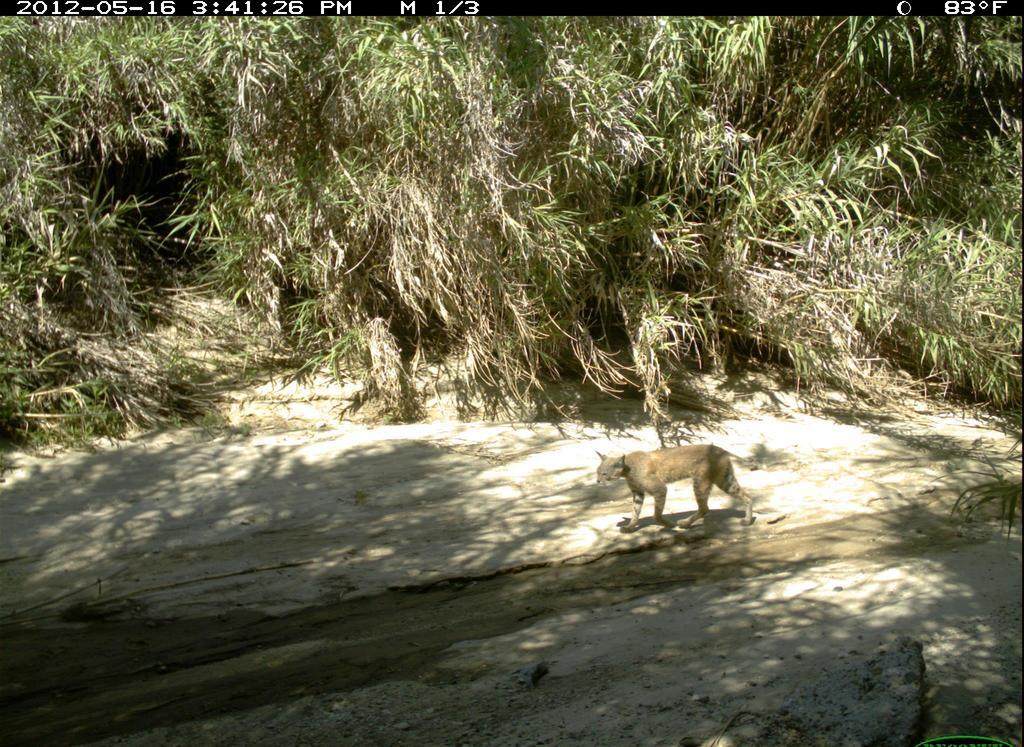bobcat: (591, 442, 762, 539)
